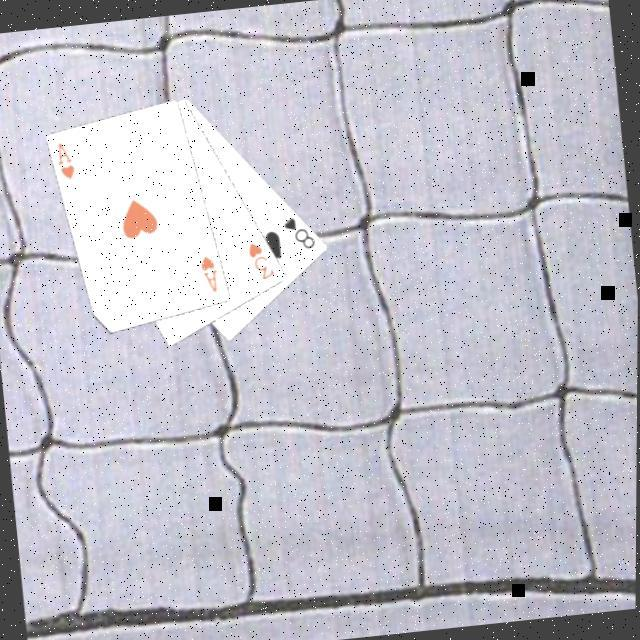3H: (246, 234, 280, 282)
8S: (281, 208, 321, 252)
AH: (198, 248, 224, 294), (54, 136, 80, 182)
